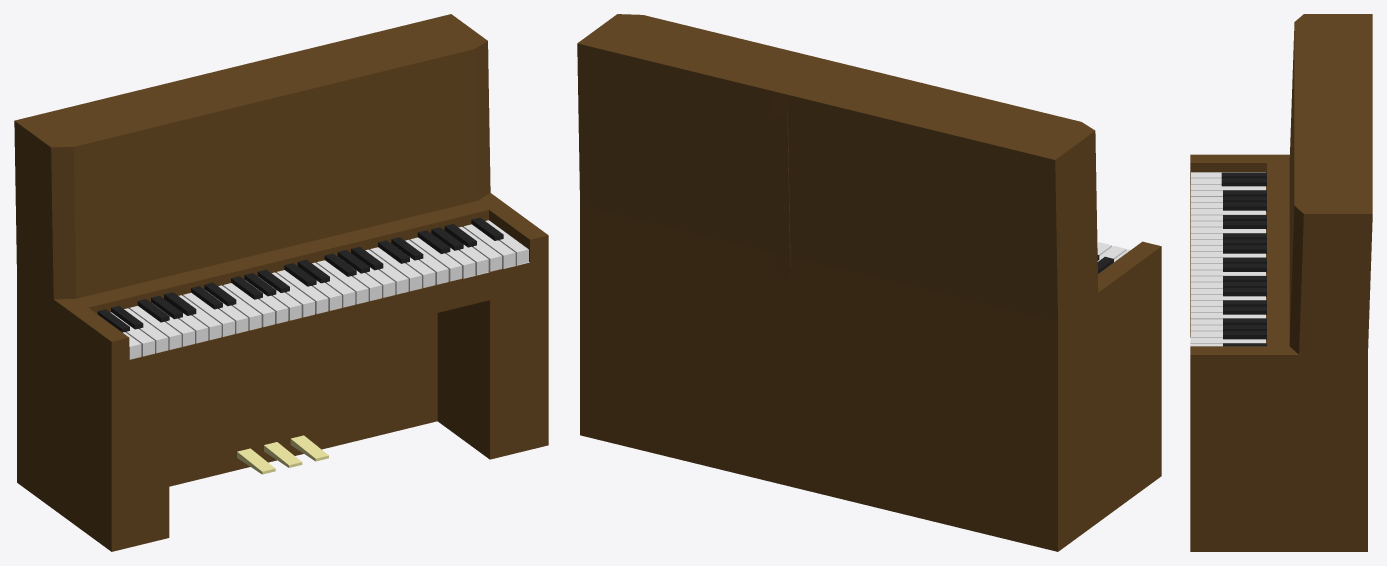
File: piano2.gltf
The picture shows the model from 3 angles, left to right: view 1: azimuth 30°, elevation 25°; view 2: azimuth 150°, elevation 25°; view 3: azimuth 270°, elevation 25°; orthographic projection. The views are drawn at different scales.
Visible parts, largest first — view 1: Cube; view 2: Cube; view 3: Cube.
Boxes of the visible parts, bbox=[...] form: Cube: bbox=[14, 14, 548, 551]; Cube: bbox=[577, 14, 1161, 551]; Cube: bbox=[1190, 14, 1372, 551].
Bounding box in the file's own units: 2 × 1.58 × 0.7715.
1 material, 1 textured.
